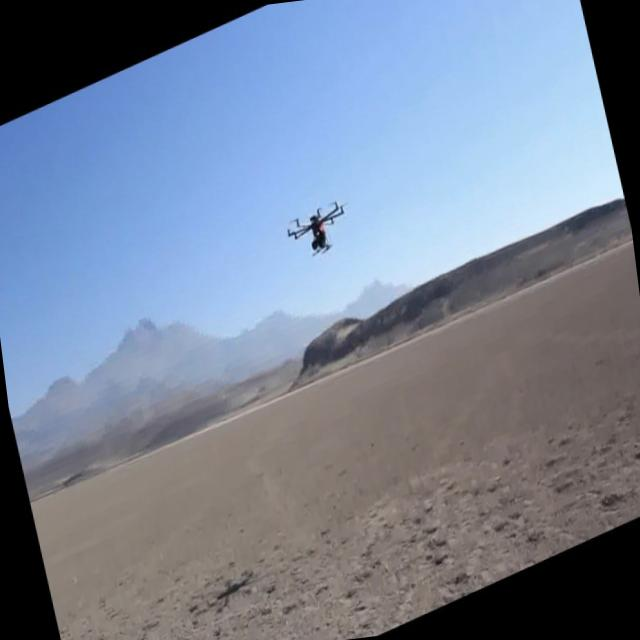drone: (278, 184, 355, 271)
